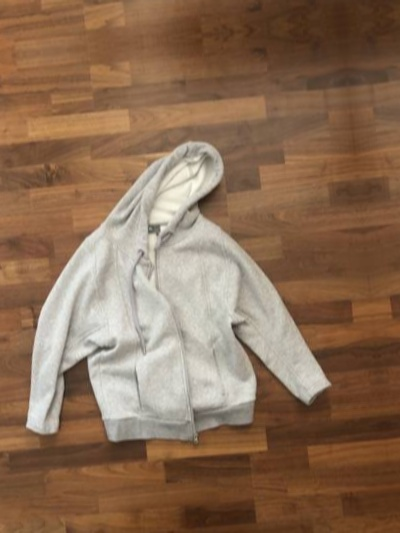Hoodie: (0, 87, 370, 481), (364, 43, 400, 438)
